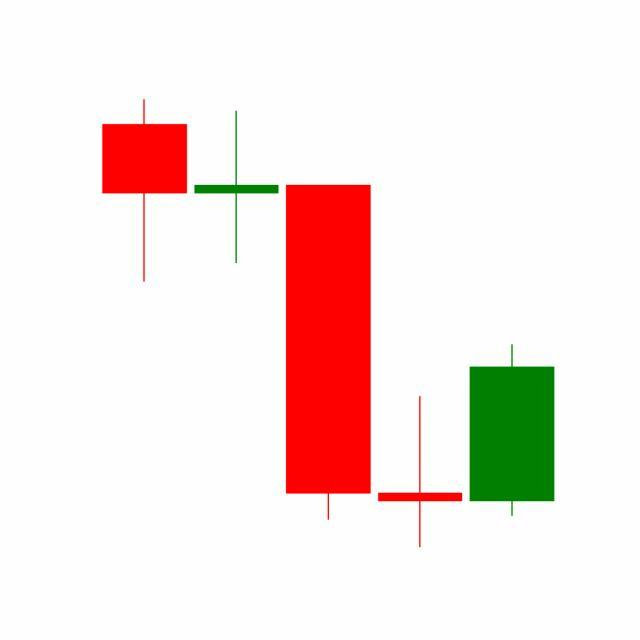Marubozu: (466, 343, 559, 519)
